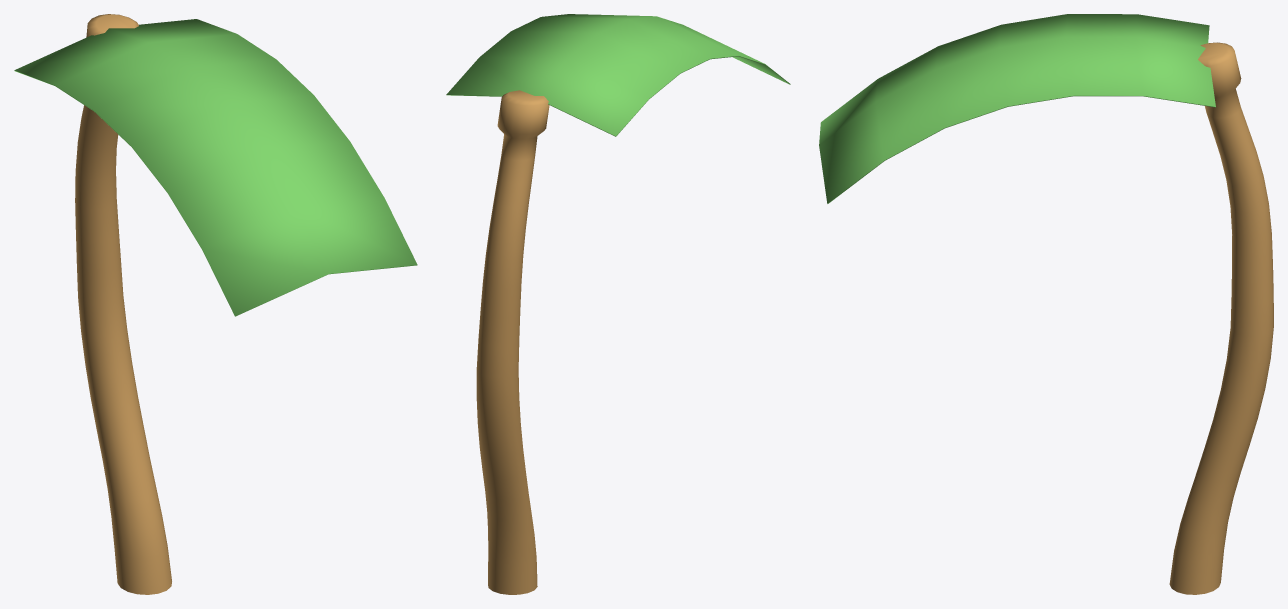
File: PalmTree.fbx
The picture shows the model from 3 angles, left to right: view 1: azimuth 30°, elevation 25°; view 2: azimuth 150°, elevation 25°; view 3: azimuth 270°, elevation 25°; orthographic projection. The views are drawn at different scales.
Parts seen in each view (by area): view 1: PalmTreeLeaf, PalmTreeRoot; view 2: PalmTreeRoot, PalmTreeLeaf; view 3: PalmTreeLeaf, PalmTreeRoot.
Boxes of the visible parts, bbox=[...] form: PalmTreeLeaf: bbox=[14, 19, 417, 316]; PalmTreeRoot: bbox=[75, 14, 171, 594]; PalmTreeRoot: bbox=[476, 90, 549, 594]; PalmTreeLeaf: bbox=[446, 14, 790, 136]; PalmTreeLeaf: bbox=[819, 14, 1215, 203]; PalmTreeRoot: bbox=[1169, 42, 1273, 594].
Bounding box in the file's own units: 234 × 643 × 495.
